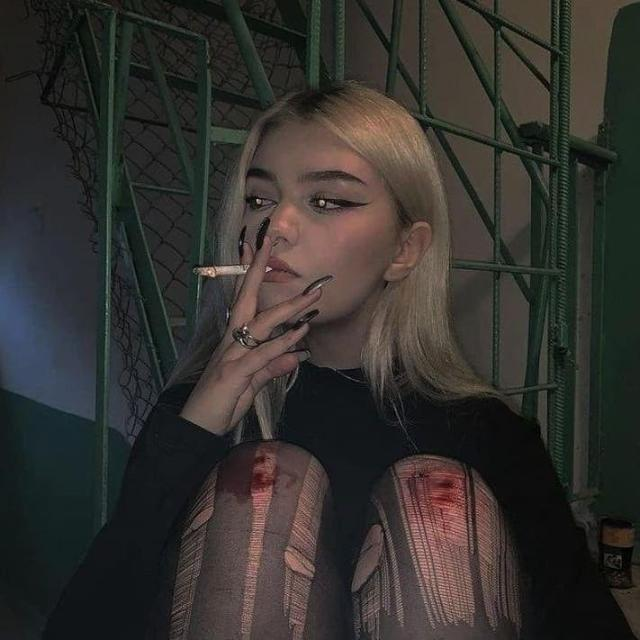cigarette: (174, 248, 289, 284)
